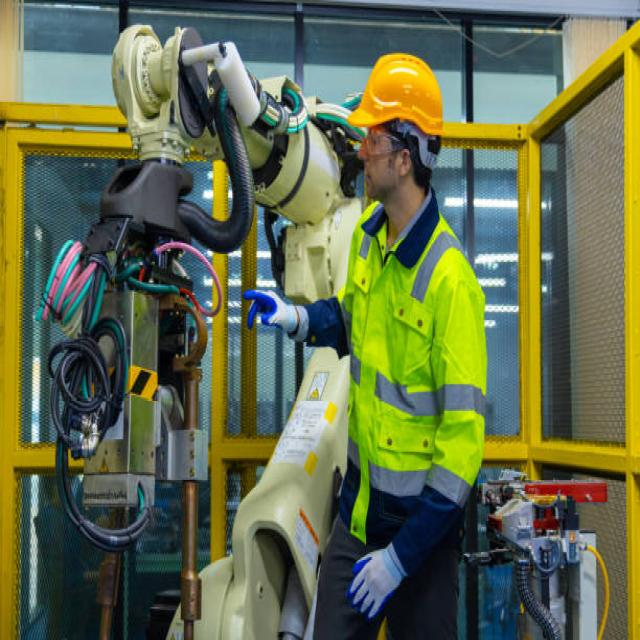Robotic-arm: (111, 11, 362, 640)
